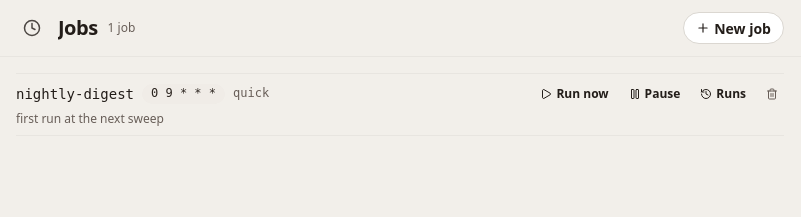
Test: running a job now › says why when the harness refuses it
This screenshot has width=801, height=217.
Click the button with aria-label "Run nightly-digest now".
click(575, 94)  # box [534,82,615,106]
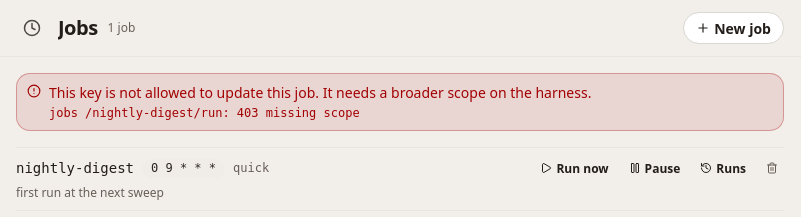
Expected: the text "not allowed to" is shown, [49,83,591,102]
